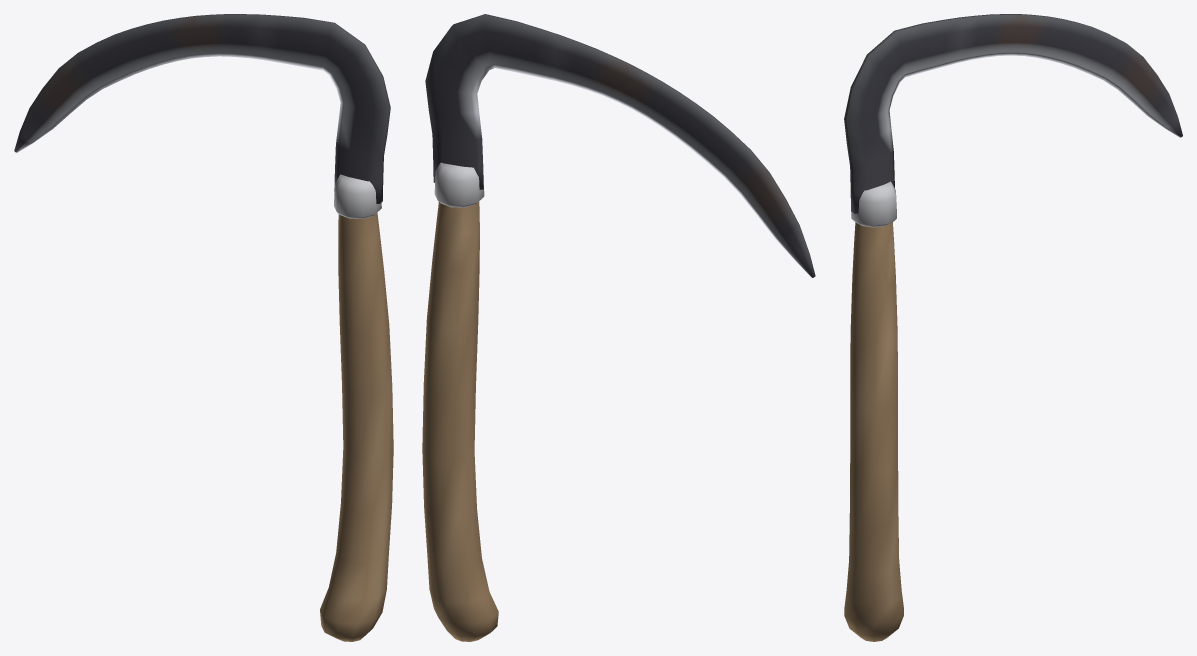
3 views of the same model, side by side, from view 1: azimuth 30°, elevation 25°; view 2: azimuth 210°, elevation 25°; view 3: azimuth 270°, elevation 25° (orthographic). The views are drawn at different scales.
Visible parts, largest first — view 1: iron_sickle; view 2: iron_sickle; view 3: iron_sickle.
Boxes of the visible parts, x1=… form: iron_sickle: x1=14, y1=14, x2=393, y2=641; iron_sickle: x1=422, y1=14, x2=815, y2=641; iron_sickle: x1=844, y1=14, x2=1182, y2=641.
Size of the model in its own units: 0.3334 by 0.8709 by 0.4441.
